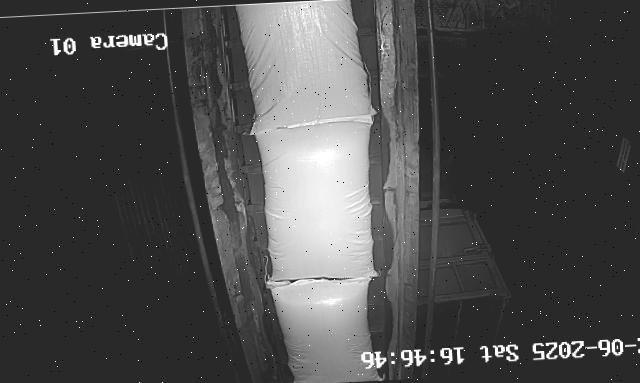bag: (253, 117, 379, 280), (234, 0, 376, 136), (265, 275, 381, 383)
